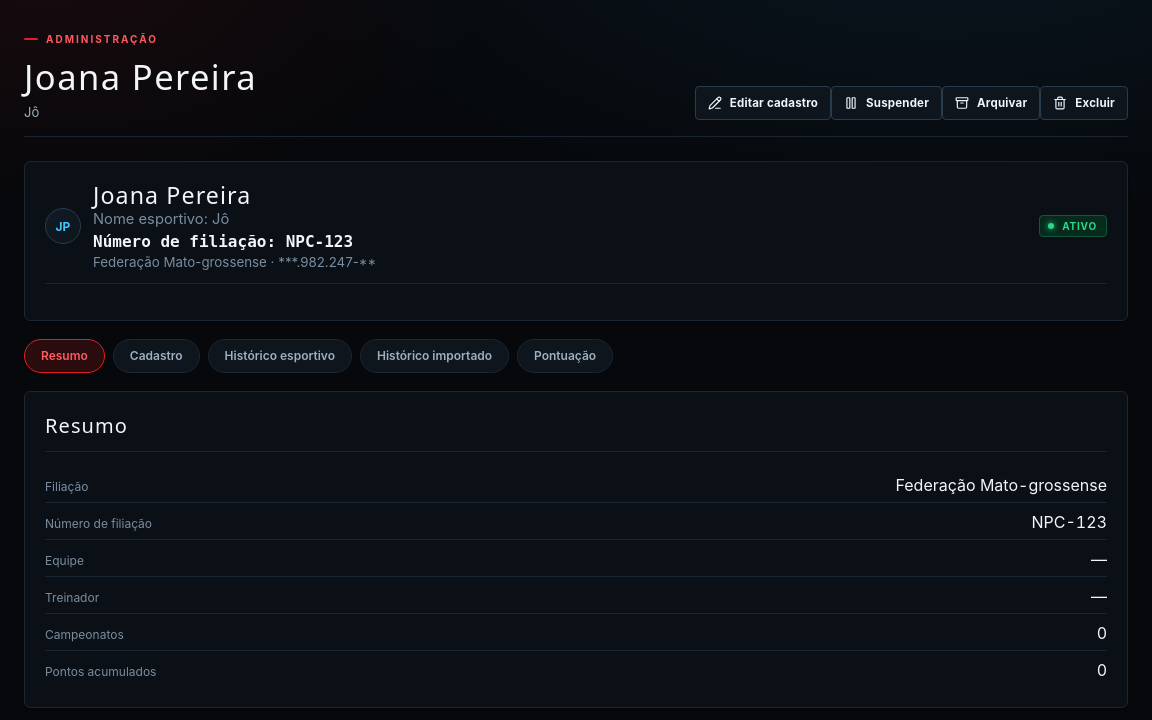
Test: a pontuação distingue empate não resolvido de dado ausente › posição nula é dita com todas as letras
This screenshot has width=1152, height=720.
Click the button "Pontuação" at (565, 356), box [517,339,613,373]
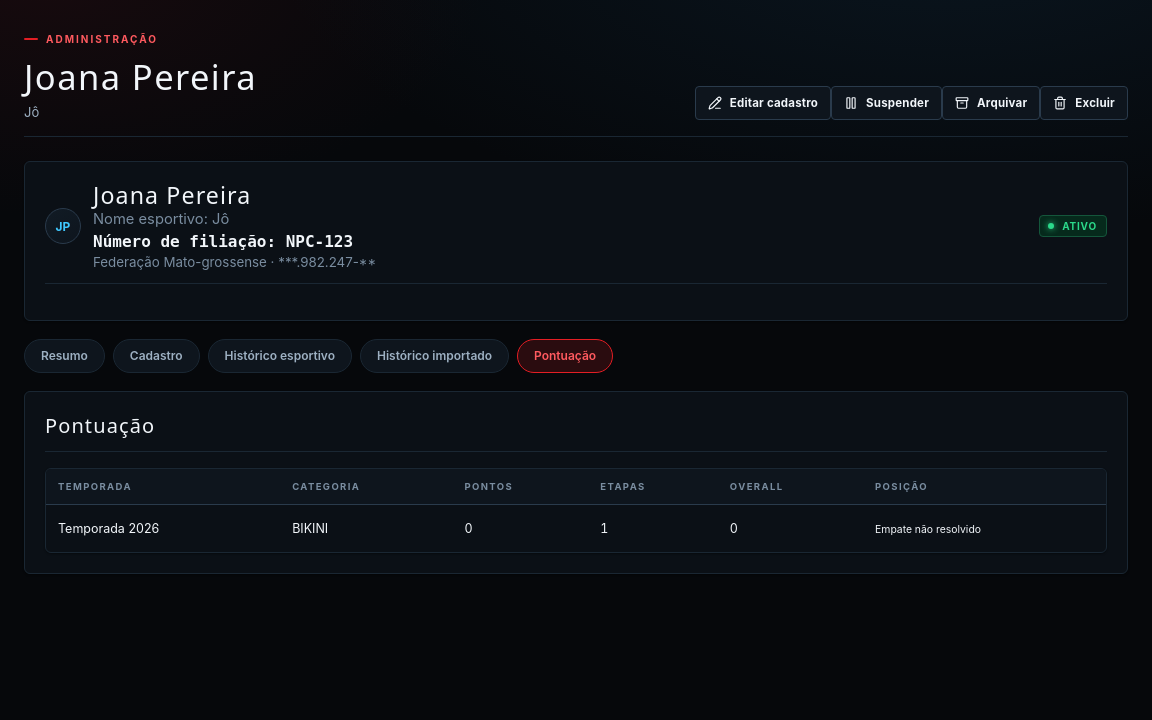
Result: the text "Empate não resolvido" is shown at [875,523,981,536]
